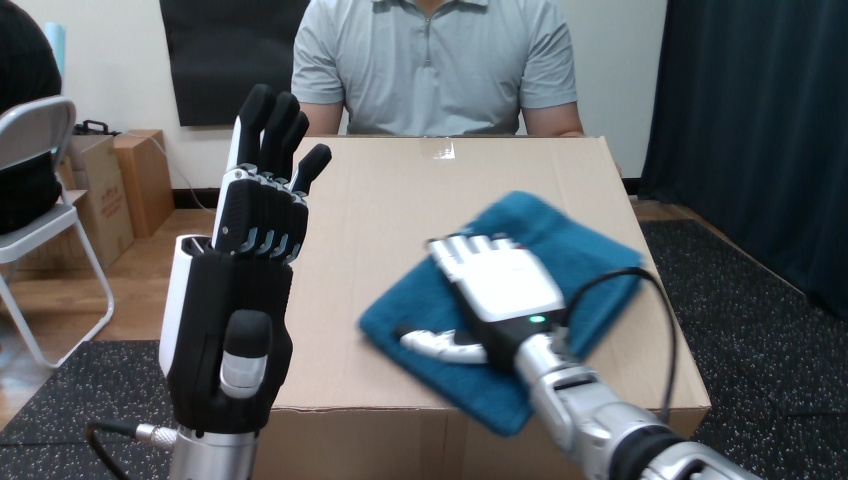left robot hand: (87, 84, 330, 478), (400, 234, 758, 479)
